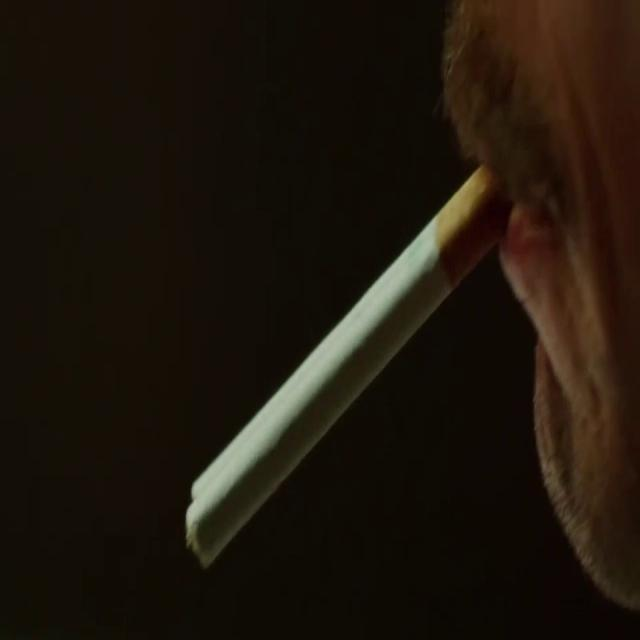Smooking: (155, 150, 527, 573)
